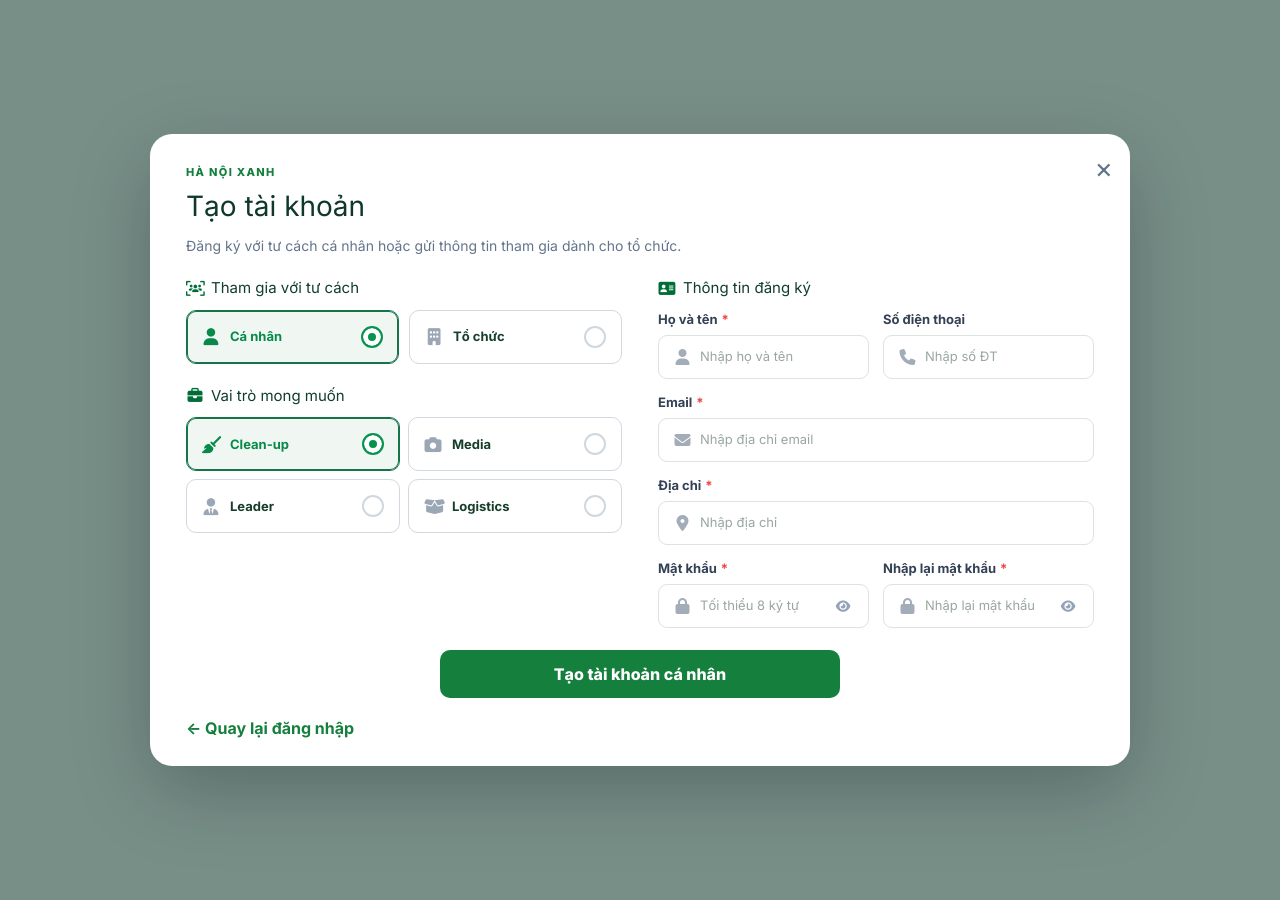
Test: AuthModal registration › shows email confirmation only after an individual account is created
The width and height of the screenshot is (1280, 900).
Type "Nguyễn Minh An" into the field labelled "Họ và tên *" at {"x": 764, "y": 357}, box [658,335,869,379]
Type "0912345678" into the field labelled "Số điện thoại" at {"x": 988, "y": 357}, box [883,335,1094,379]
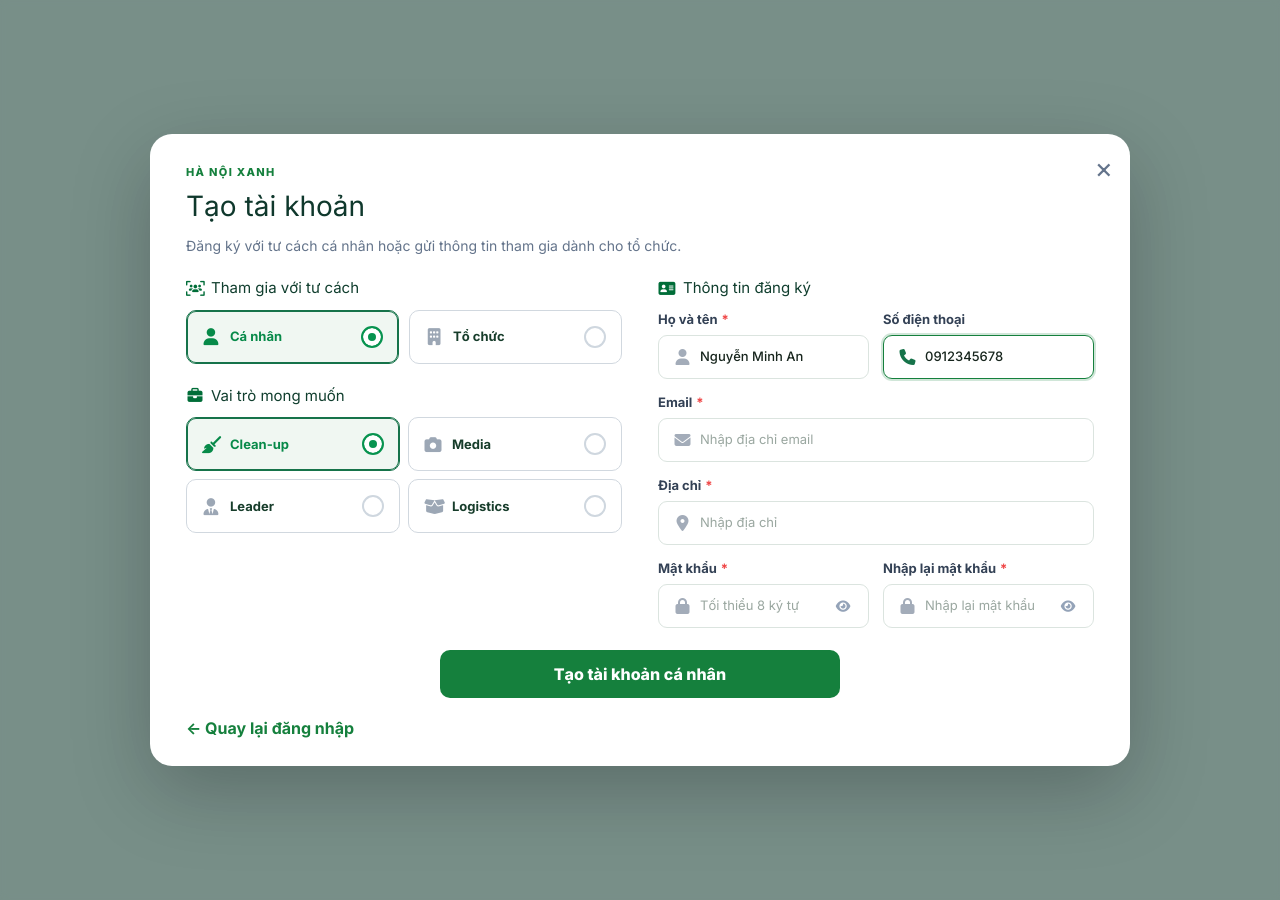
Type "an@example.com" into the field labelled "Email *" at {"x": 876, "y": 440}, box [658,418,1094,462]
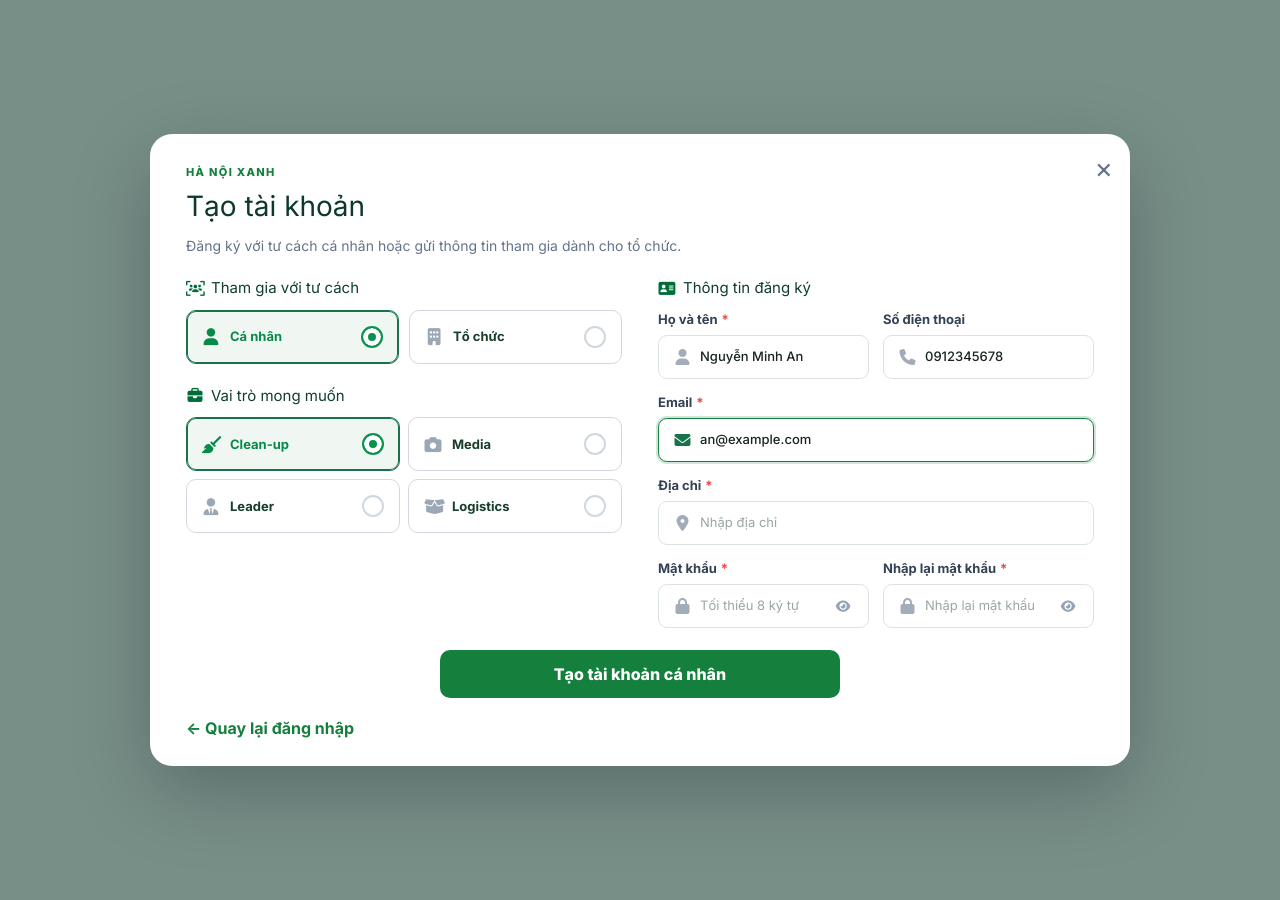
Type "Cầu Giấy, Hà Nội" into the field labelled "Địa chỉ *" at {"x": 876, "y": 523}, box [658,501,1094,545]
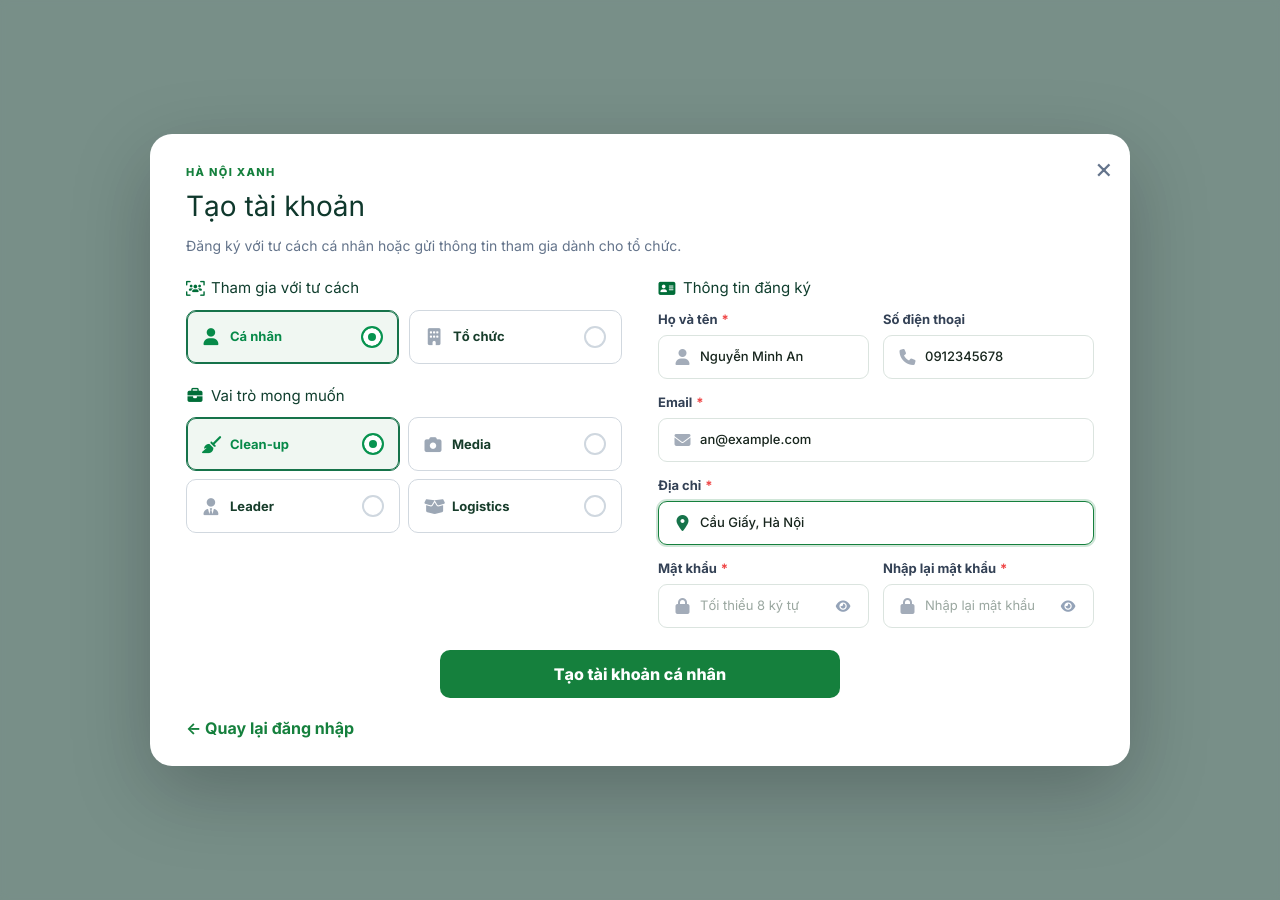
Type "matkhau123" into the password field labelled "Mật khẩu *" at {"x": 764, "y": 606}, box [658,584,869,628]
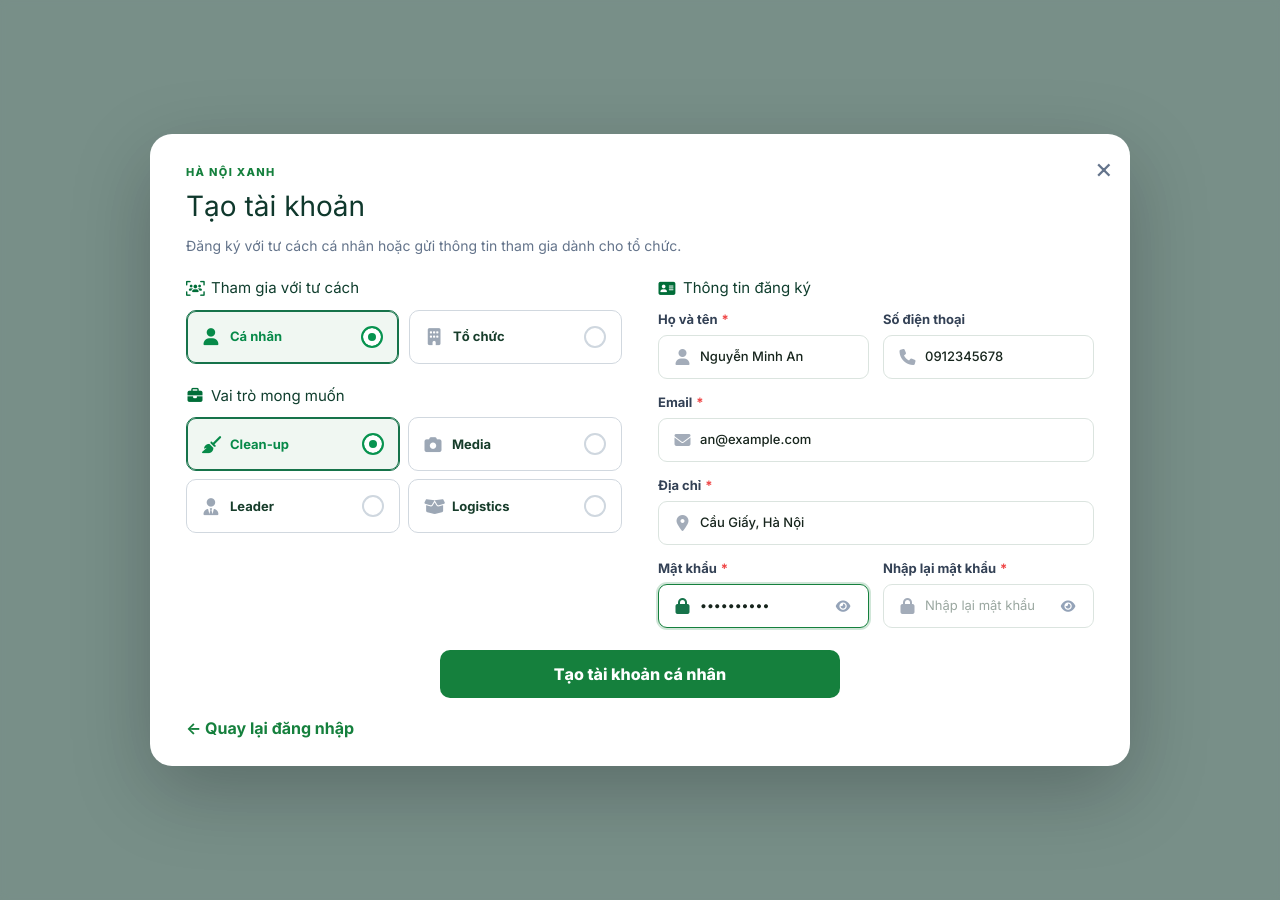
Type "matkhau123" into the password field labelled "Nhập lại mật khẩu *" at {"x": 988, "y": 606}, box [883,584,1094,628]
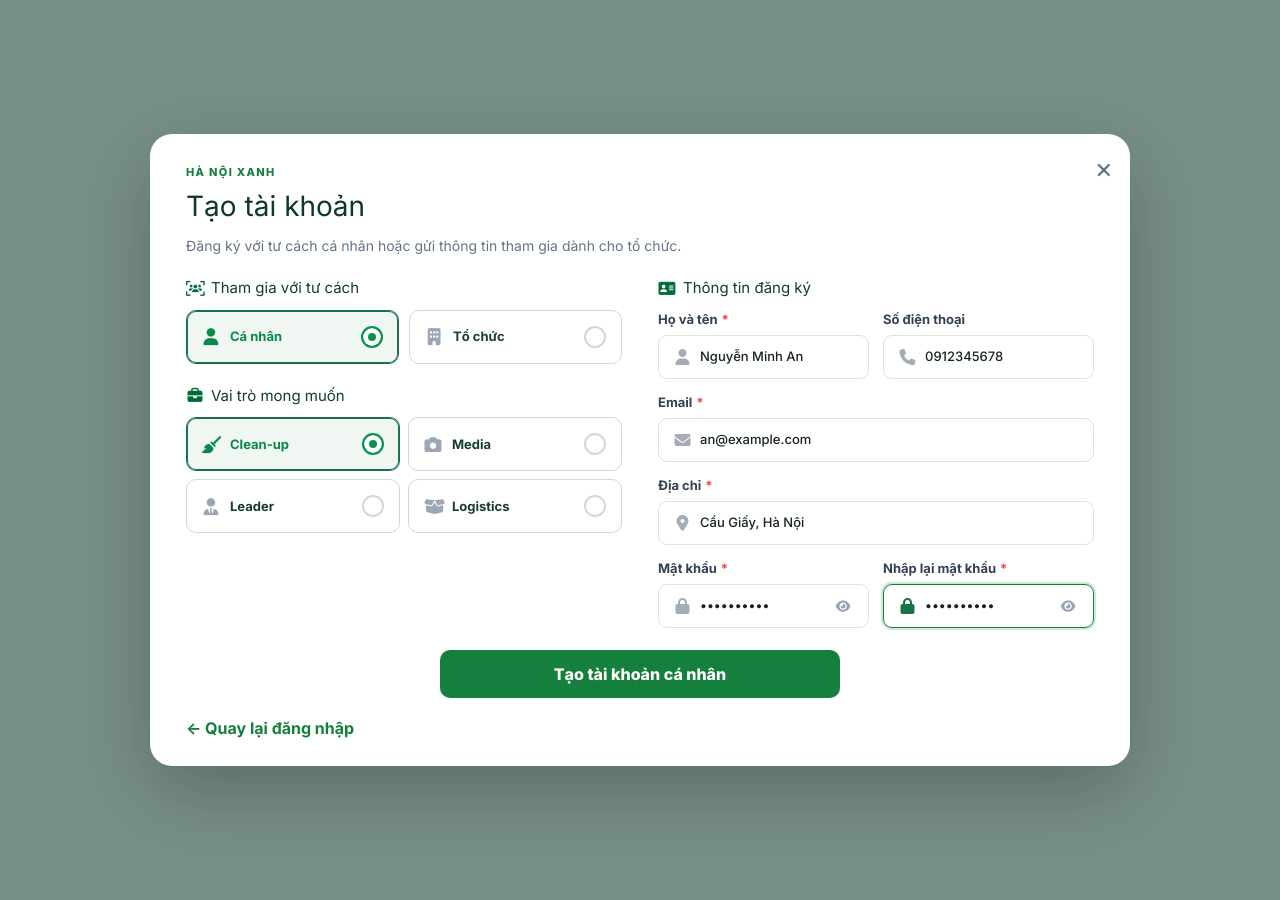
Click the button "Tạo tài khoản cá nhân" at {"x": 640, "y": 674}, box [440,650,840,698]
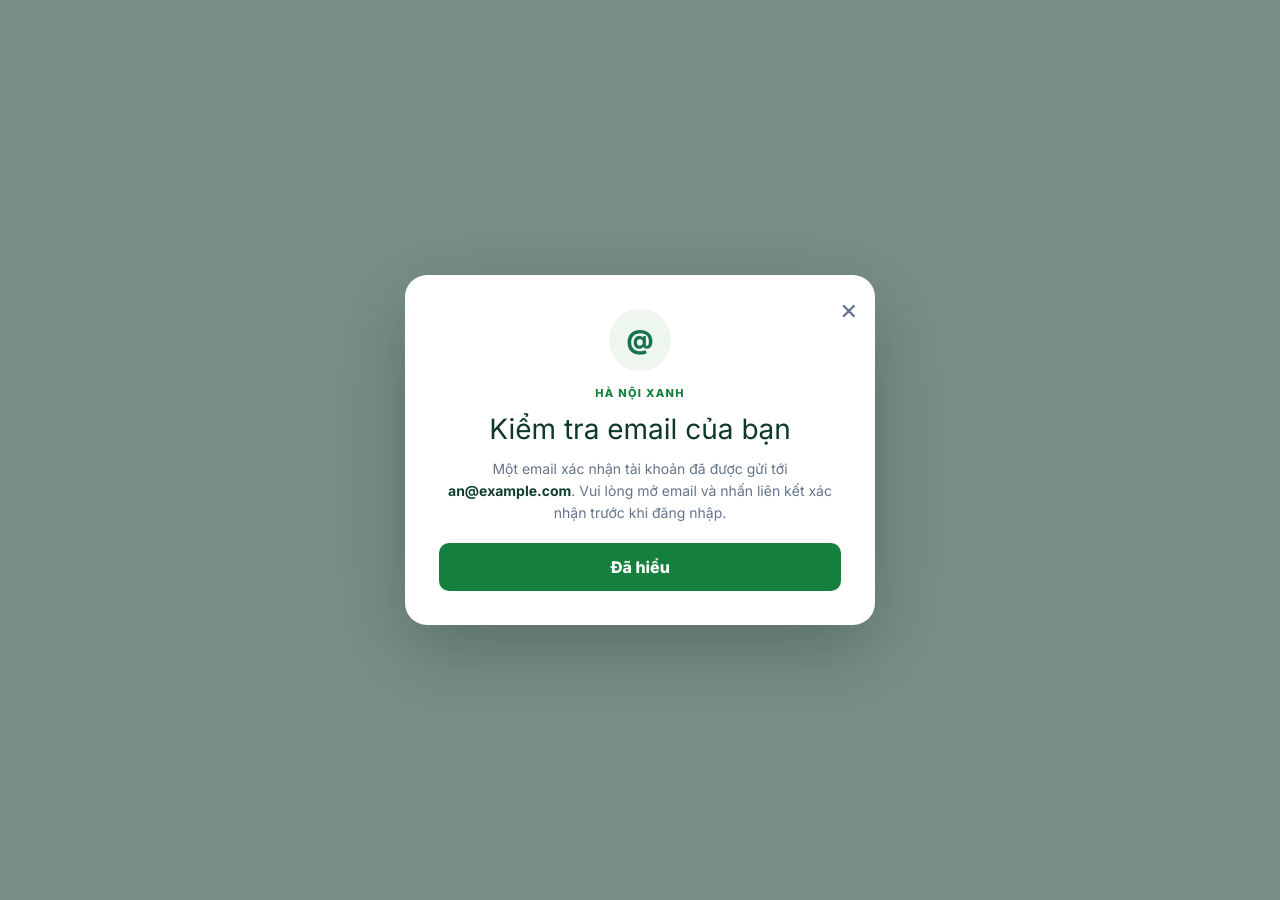
Check: the heading "Kiểm tra email của bạn" is shown, box [489,412,791,446]
